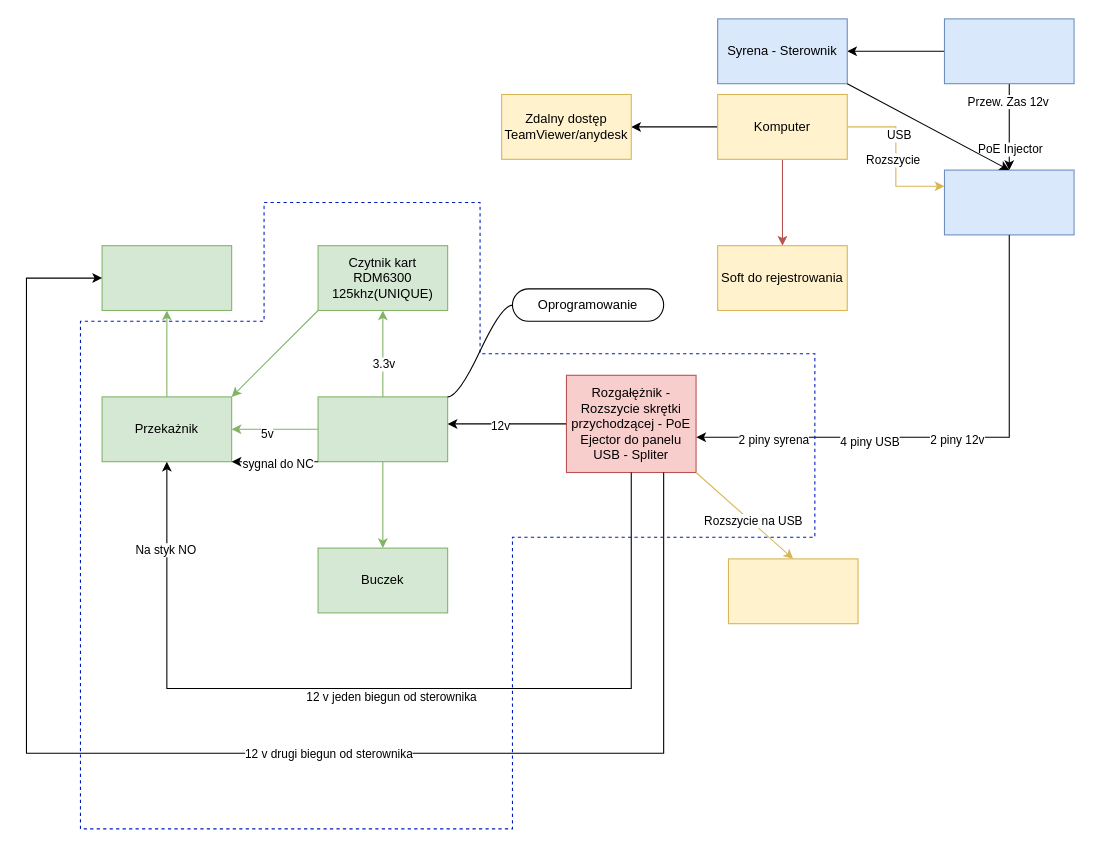
The diagram is 1093 pixels wide and 849 high, and some of its shapes have lost their labels. Here are the shapes that lost their labels. From the top down, the box of each, then its label:
(943, 18, 1074, 84): Zasilacz 12v stałego z makiety
(943, 169, 1074, 235): Skrętka
(101, 245, 232, 310): Syrena
(317, 396, 448, 462): Arduino
(727, 558, 858, 624): USB Video
